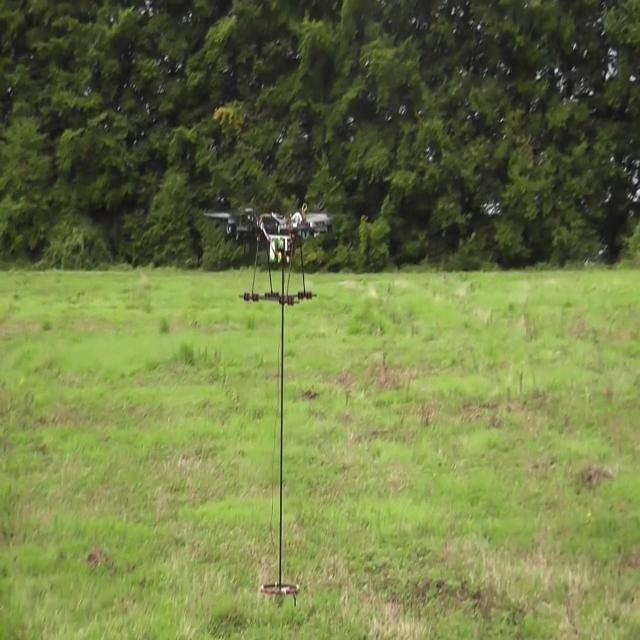drone: (214, 205, 344, 309)
